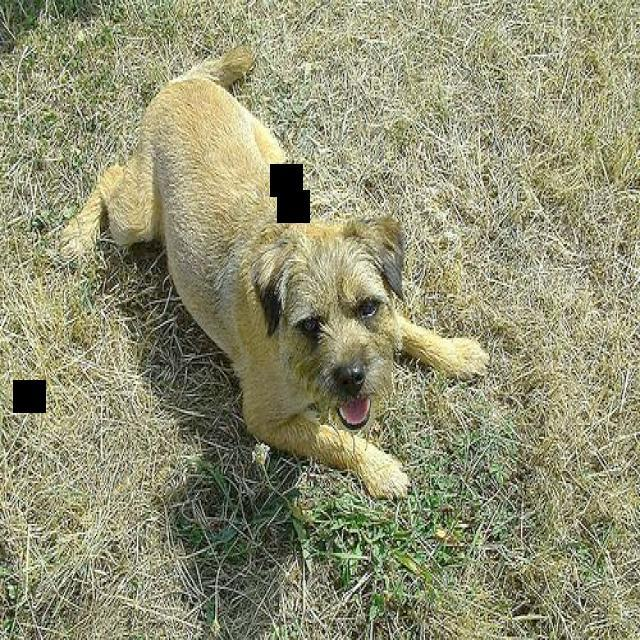adult_dog: (55, 43, 490, 504)
